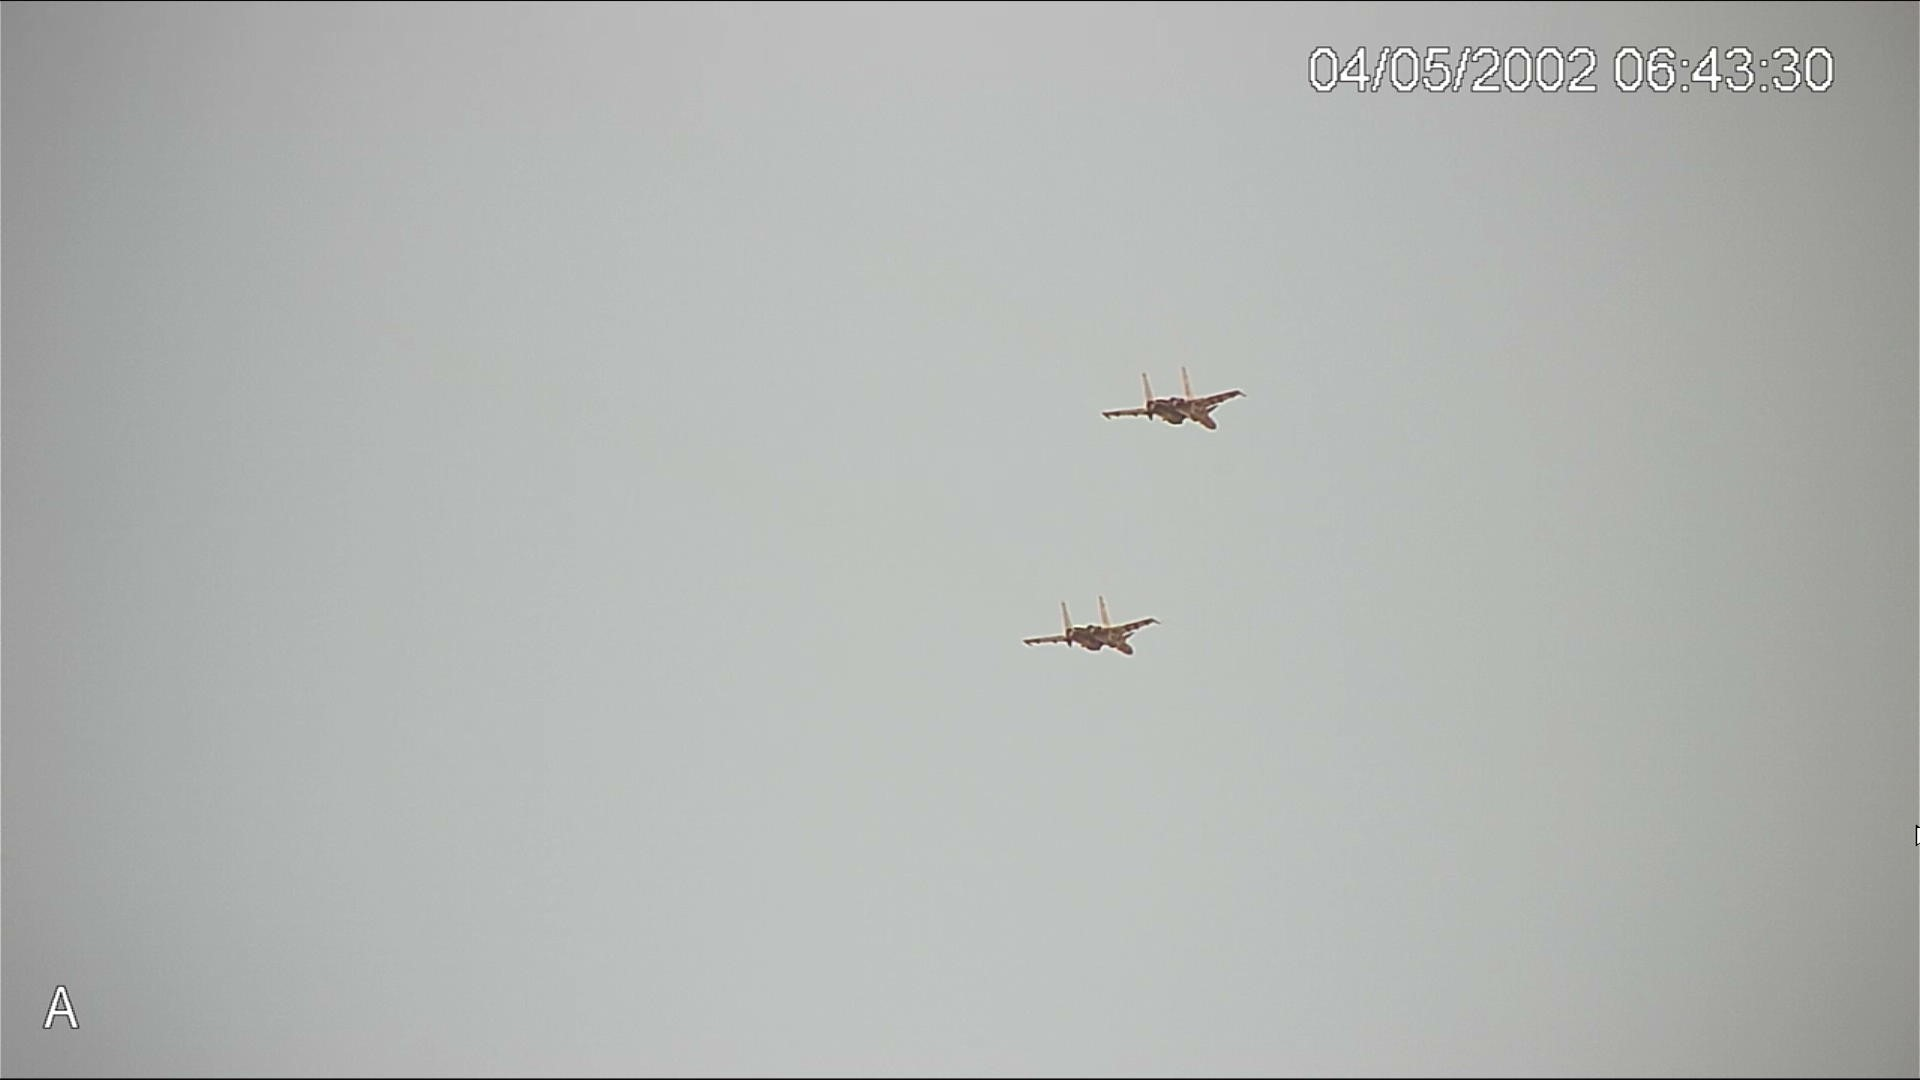SU_30: (1102, 367, 1247, 433), (1021, 593, 1163, 655)
